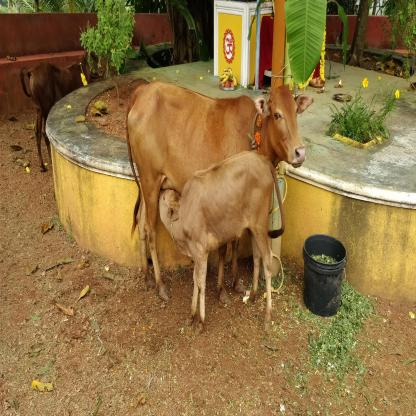cow: (126, 80, 314, 304), (158, 150, 285, 334), (27, 51, 104, 174)
